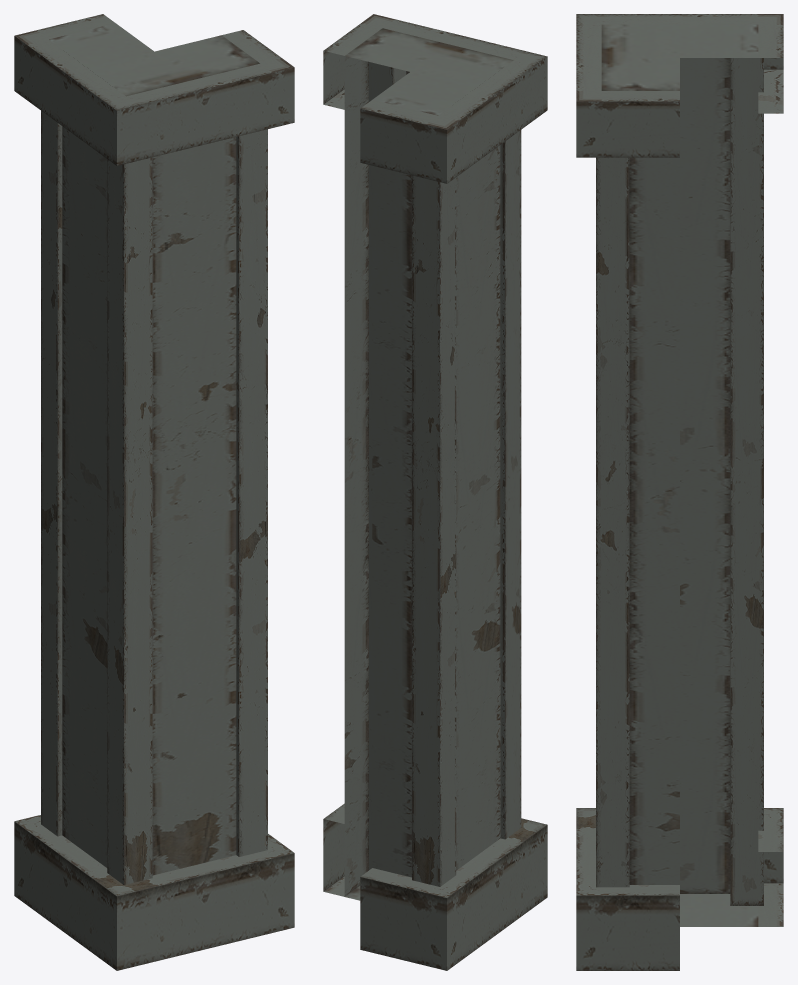
The model's file is SM_ColumnECorner.FBX.
3 renders of one model, left to right at view 1: azimuth 30°, elevation 25°; view 2: azimuth 150°, elevation 25°; view 3: azimuth 270°, elevation 25°, orthographic. The views are drawn at different scales.
Visible parts, largest first — view 1: SM_ColumnECorner; view 2: SM_ColumnECorner; view 3: SM_ColumnECorner.
Part boxes in pixels (x1,y1,x2,y2): SM_ColumnECorner: (14, 14, 294, 970); SM_ColumnECorner: (323, 14, 547, 970); SM_ColumnECorner: (576, 14, 783, 970).
Size of the model in its own units: 75.75 by 350 by 75.75.
